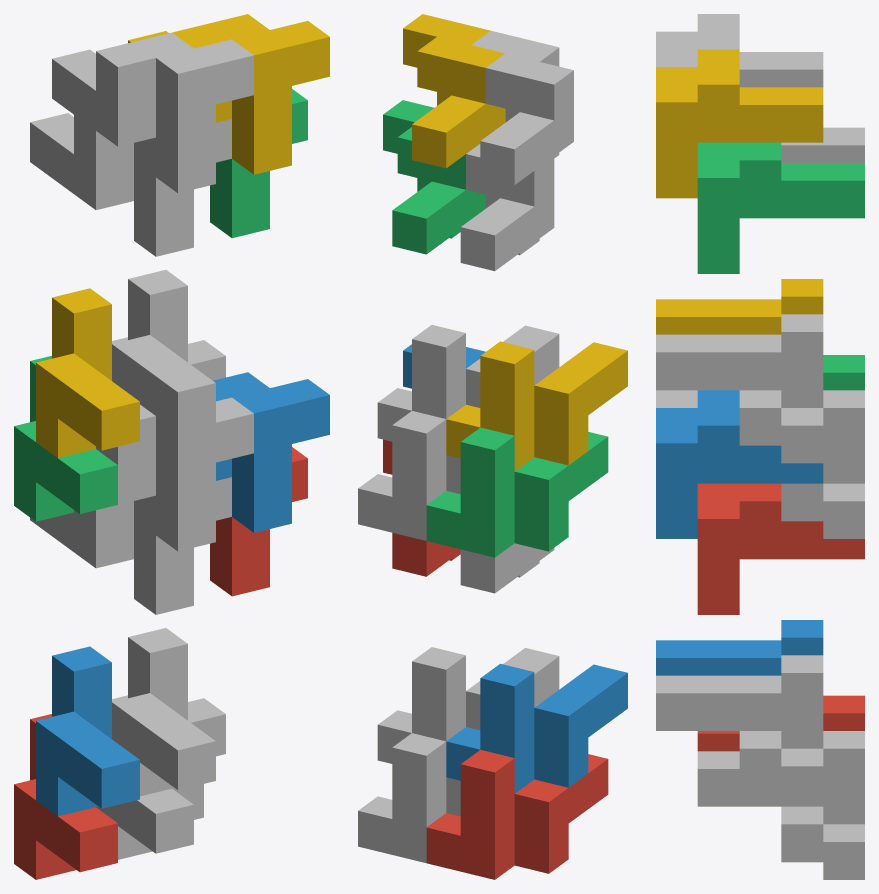
File: tiling.obj
3 renders of one model, left to right at view 1: azimuth 30°, elevation 25°; view 2: azimuth 150°, elevation 25°; view 3: azimuth 270°, elevation 25°, orthographic. The views are drawn at different scales.
Visible parts, largest first — view 1: copy_2_domain_4, copy_1_domain_6, copy_1_domain_2, copy_1_domain_4, copy_2_domain_3, copy_2_domain_2, copy_1_domain_8, copy_2_domain_8, copy_2_domain_6, copy_2_domain_1, copy_1_domain_1, copy_1_domain_3 (+3 smaller); view 2: copy_1_domain_1, copy_1_domain_3, copy_1_domain_4, copy_1_domain_2, copy_2_domain_4, copy_2_domain_8, copy_1_domain_6, copy_1_domain_8, copy_1_domain_5, copy_1_domain_7, copy_2_domain_7, copy_2_domain_3 (+3 smaller); view 3: copy_1_domain_8, copy_1_domain_6, copy_2_domain_8, copy_2_domain_7, copy_1_domain_5, copy_2_domain_6, copy_2_domain_5, copy_1_domain_7, copy_2_domain_4, copy_1_domain_2, copy_1_domain_4, copy_1_domain_1 (+3 smaller).
Part boxes in pixels (left/top/right/bottom): copy_2_domain_4: left=52, top=32, right=253, bottom=193; copy_1_domain_6: left=112, top=628, right=225, bottom=796; copy_1_domain_2: left=36, top=646, right=139, bottom=816; copy_1_domain_4: left=36, top=288, right=139, bottom=458; copy_2_domain_3: left=30, top=113, right=231, bottom=256; copy_2_domain_2: left=96, top=397, right=253, bottom=551; copy_1_domain_8: left=112, top=270, right=225, bottom=431; copy_2_domain_8: left=128, top=14, right=329, bottom=174; copy_2_domain_6: left=213, top=372, right=329, bottom=532; copy_2_domain_1: left=30, top=477, right=231, bottom=614; copy_1_domain_1: left=14, top=714, right=117, bottom=879; copy_1_domain_3: left=14, top=355, right=117, bottom=521; copy_1_domain_1: left=426, top=750, right=608, bottom=879; copy_1_domain_3: left=426, top=427, right=608, bottom=557; copy_1_domain_4: left=446, top=341, right=627, bottom=471; copy_1_domain_2: left=446, top=663, right=627, bottom=793; copy_2_domain_4: left=471, top=30, right=573, bottom=184; copy_2_domain_8: left=403, top=14, right=505, bottom=168; copy_1_domain_6: left=377, top=647, right=559, bottom=763; copy_1_domain_8: left=377, top=325, right=559, bottom=441; copy_1_domain_5: left=358, top=733, right=460, bottom=863; copy_1_domain_7: left=358, top=411, right=460, bottom=540; copy_2_domain_7: left=383, top=100, right=485, bottom=254; copy_2_domain_3: left=460, top=144, right=554, bottom=271; copy_1_domain_8: left=656, top=314, right=823, bottom=463; copy_1_domain_6: left=656, top=655, right=823, bottom=804; copy_2_domain_8: left=656, top=49, right=823, bottom=198; copy_2_domain_7: left=697, top=142, right=864, bottom=273; copy_1_domain_5: left=697, top=731, right=864, bottom=879; copy_2_domain_6: left=656, top=390, right=823, bottom=538; copy_2_domain_5: left=697, top=483, right=864, bottom=614; copy_1_domain_7: left=781, top=390, right=864, bottom=538; copy_2_domain_4: left=656, top=14, right=823, bottom=87; copy_1_domain_2: left=656, top=620, right=823, bottom=675; copy_1_domain_4: left=656, top=279, right=823, bottom=334; copy_1_domain_1: left=697, top=695, right=864, bottom=751.
Size of the model in its own units: 6 by 21 by 5.
